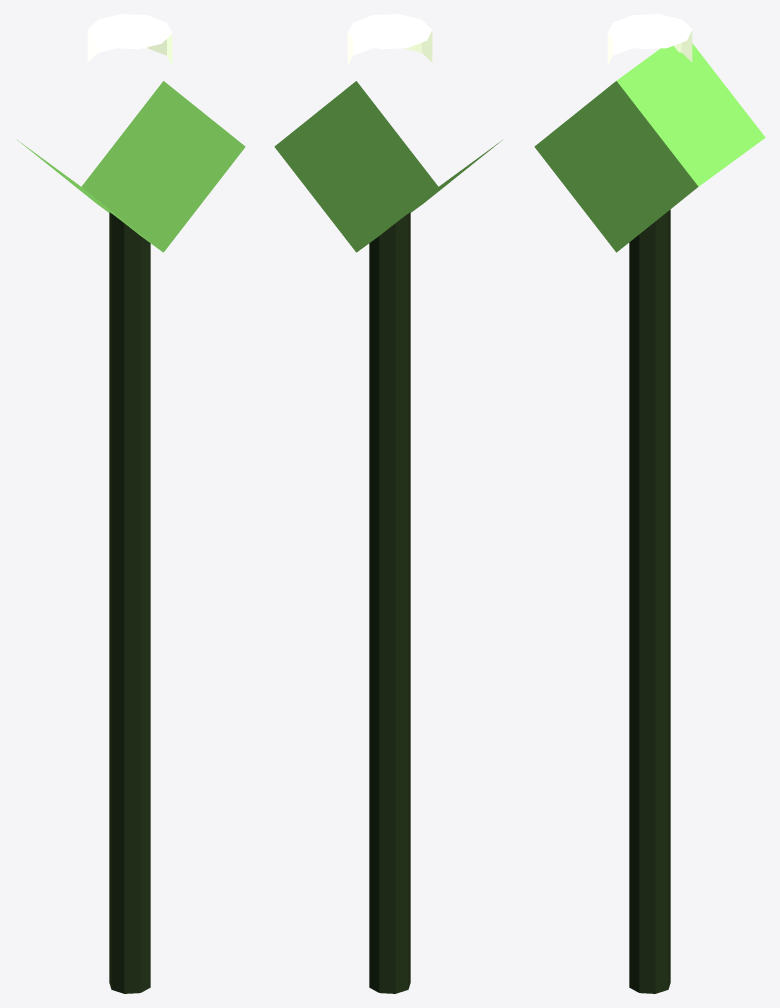
Rendered from pugna.glb.
The picture shows the model from 3 angles, left to right: view 1: azimuth 30°, elevation 25°; view 2: azimuth 150°, elevation 25°; view 3: azimuth 330°, elevation 25°; orthographic projection.
Parts seen in each view (by area): view 1: pugna-shaft, pugna-head-gem, pugna-cap; view 2: pugna-shaft, pugna-head-gem, pugna-cap; view 3: pugna-shaft, pugna-head-gem, pugna-cap.
Boxes of the visible parts, x1=… form: pugna-shaft: x1=109, y1=212, x2=150, y2=993; pugna-head-gem: x1=17, y1=81, x2=245, y2=252; pugna-cap: x1=87, y1=14, x2=172, y2=65; pugna-shaft: x1=369, y1=212, x2=410, y2=993; pugna-head-gem: x1=274, y1=81, x2=502, y2=252; pugna-cap: x1=347, y1=14, x2=432, y2=65; pugna-shaft: x1=629, y1=209, x2=670, y2=993; pugna-head-gem: x1=534, y1=43, x2=765, y2=252; pugna-cap: x1=607, y1=14, x2=692, y2=65.
Bounding box in the file's own units: 0.3111 × 1.72 × 0.22.
